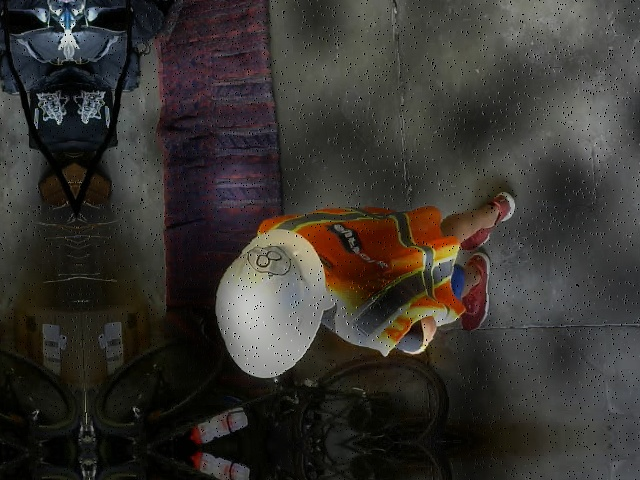eight: (246, 242, 291, 278)
